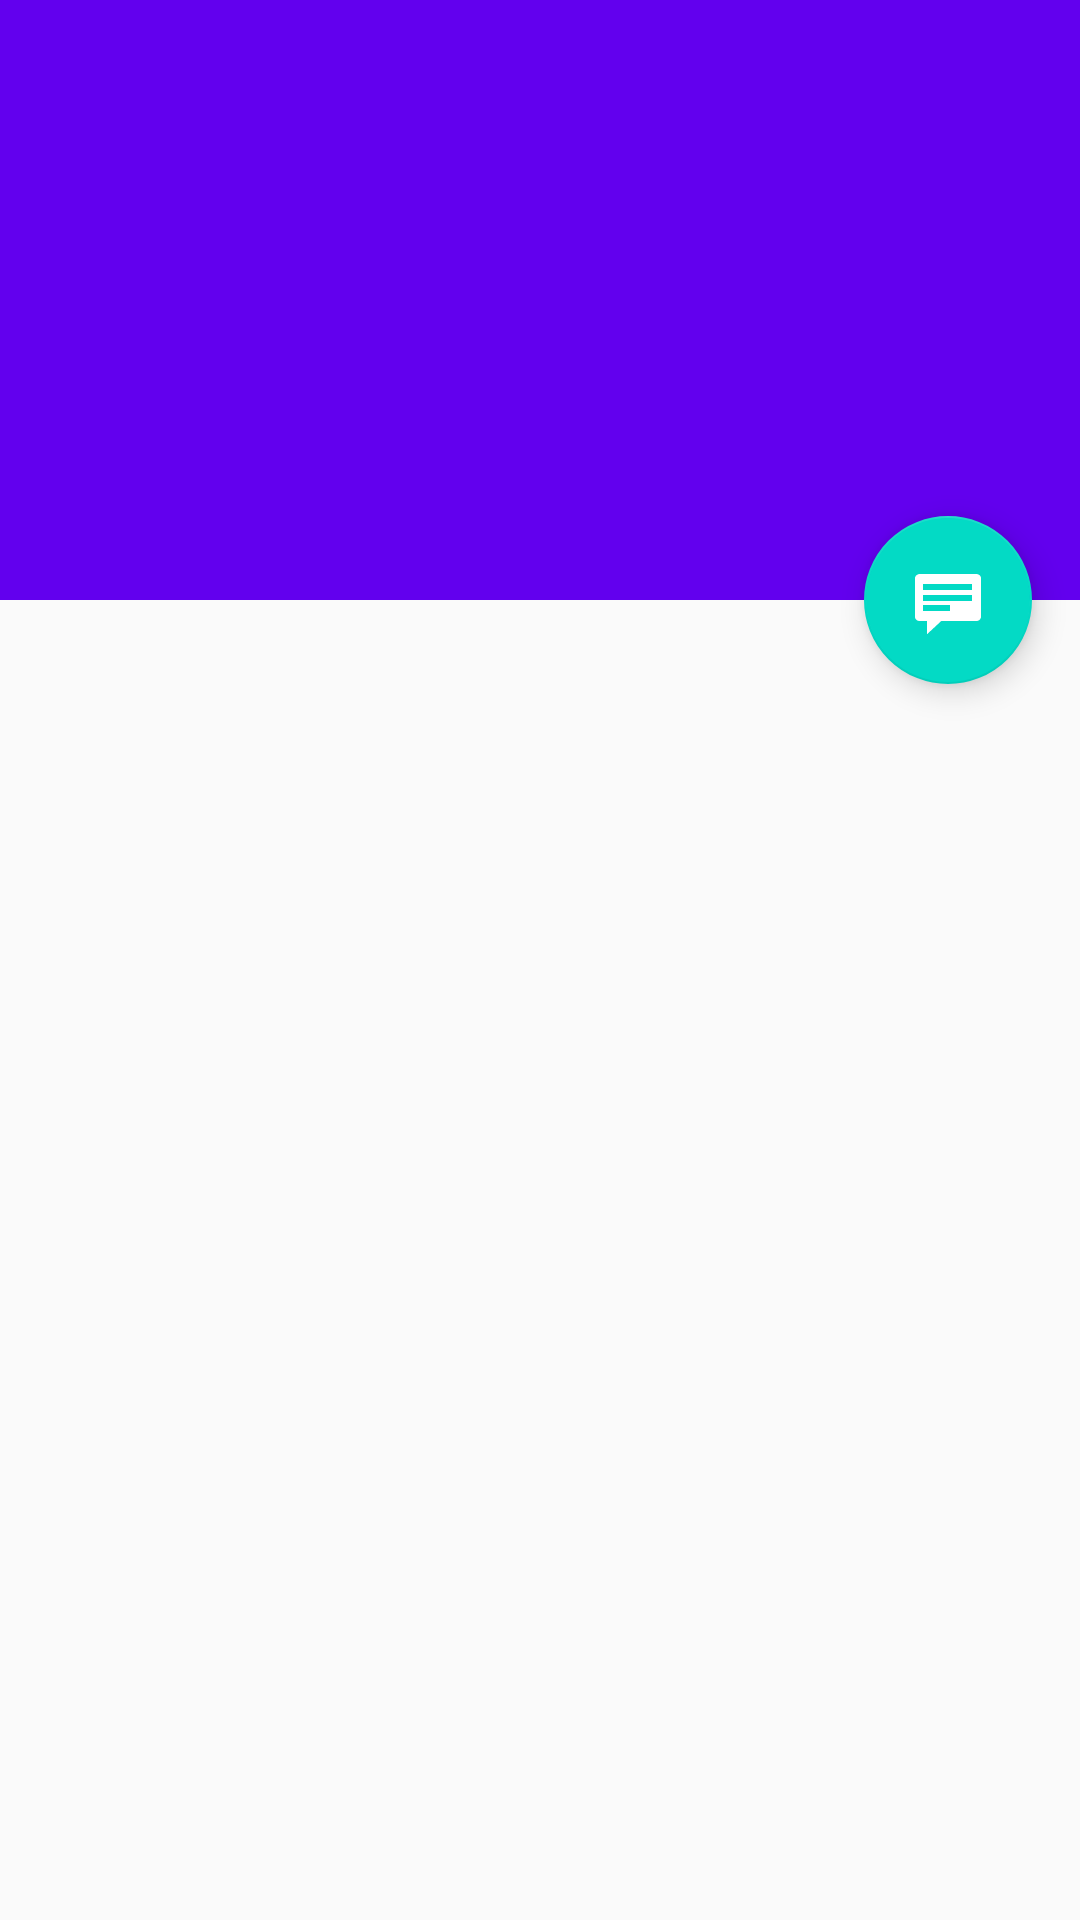

Icon click points for this 1080×1920 phone screenshot, format (x=x, y=y):
chat: (x=948, y=600)
